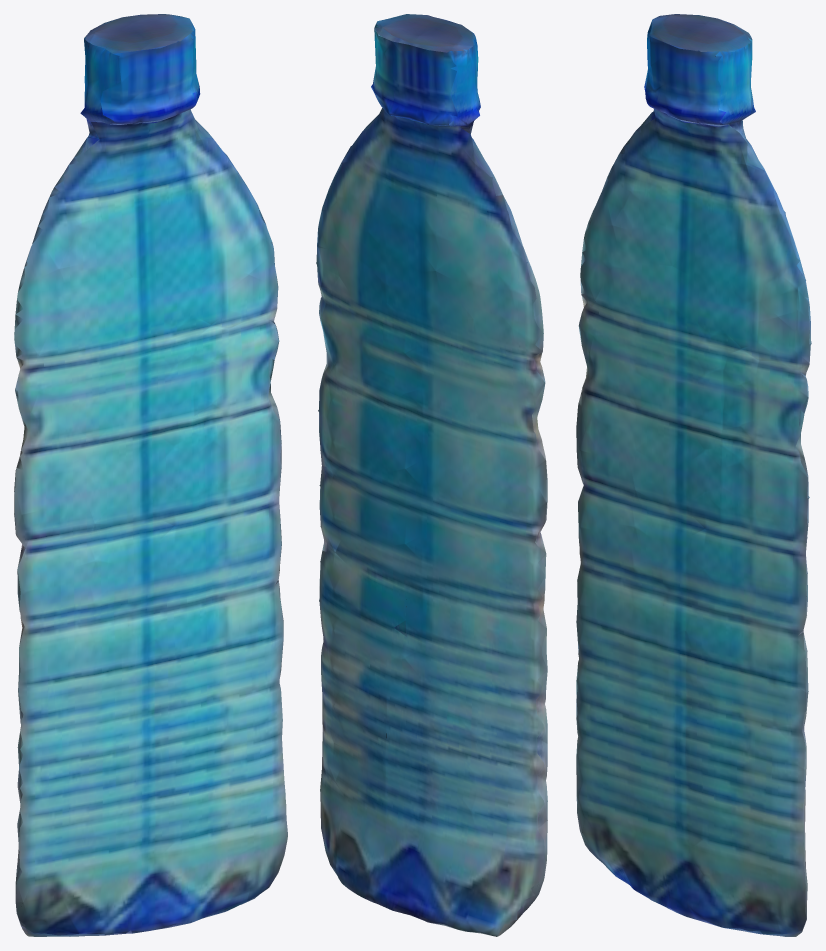
File: SPAR3D_result_20250707_204035.glb
The picture shows the model from 3 angles, left to right: view 1: azimuth 30°, elevation 25°; view 2: azimuth 150°, elevation 25°; view 3: azimuth 330°, elevation 25°; orthographic projection. The views are drawn at different scales.
Visible parts, largest first — view 1: world; view 2: world; view 3: world.
Boxes of the visible parts, box(x1,y1,x2,y2) form: world: box(14, 14, 287, 936); world: box(316, 14, 547, 936); world: box(576, 14, 811, 936).
Bounding box in the file's own units: 0.2943 × 1 × 0.0867.
Materials: 1 (1 with a texture image).
